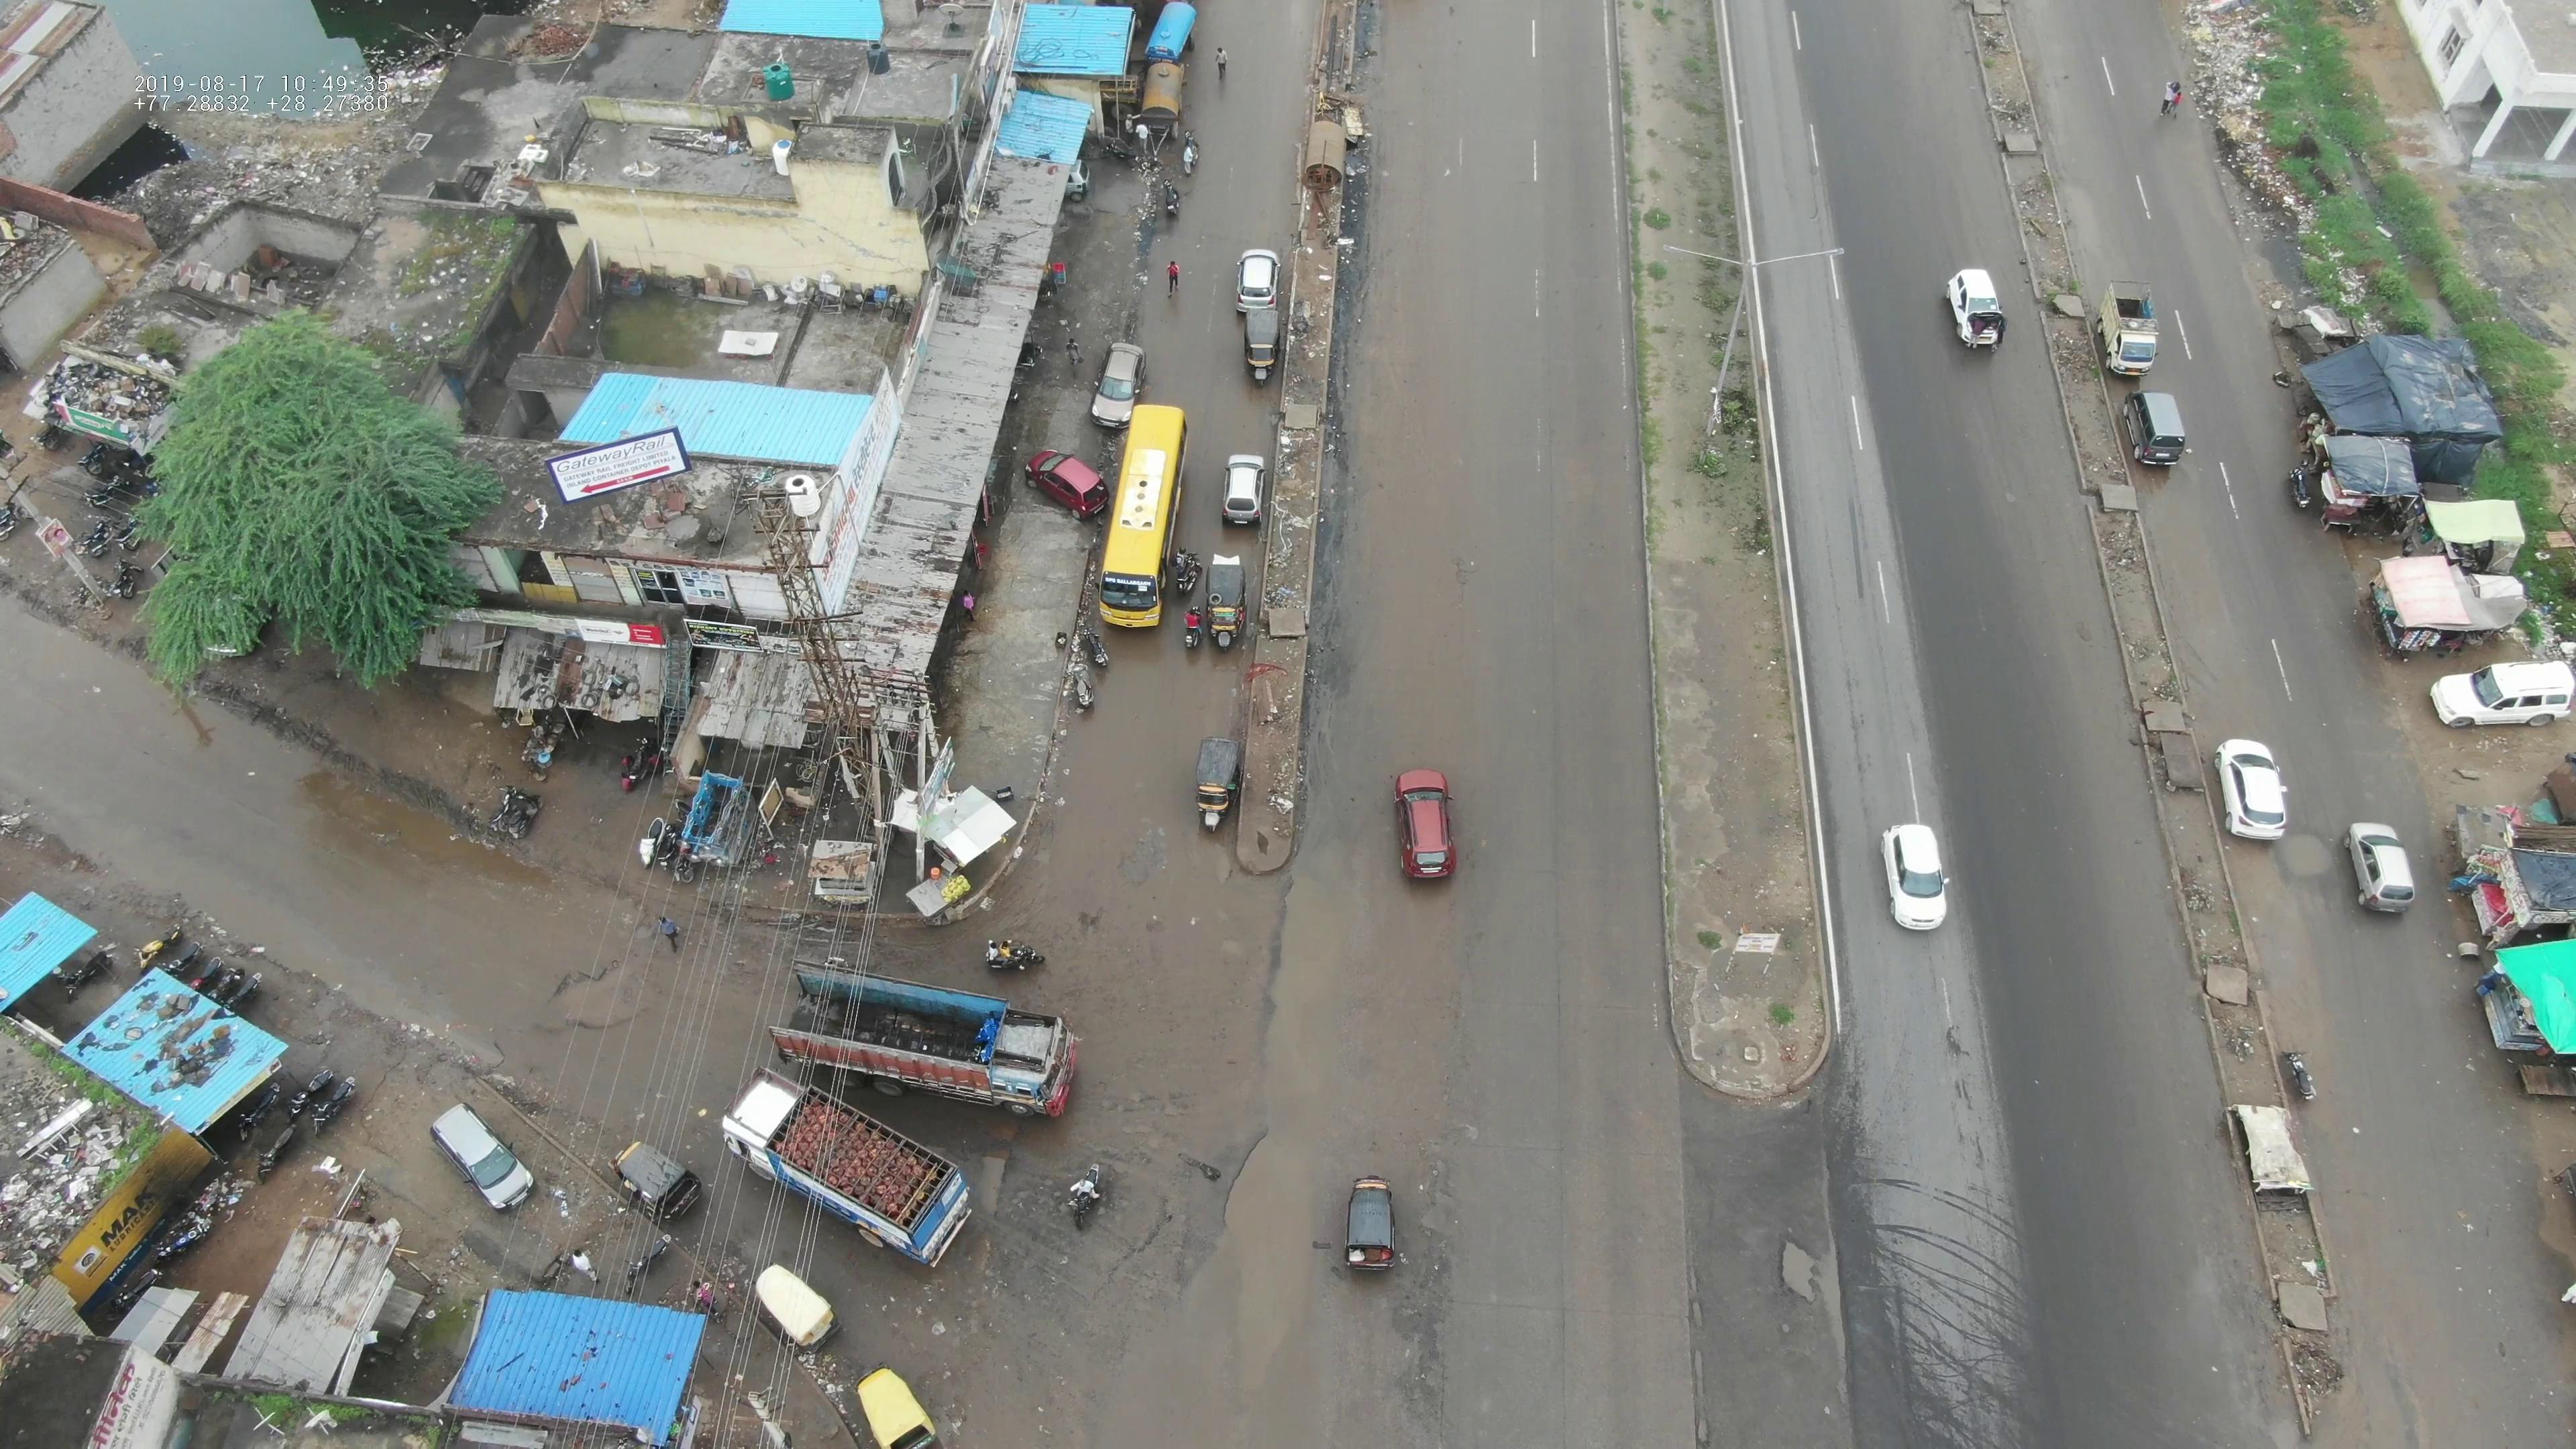Potholes: (1010, 1123, 1330, 1286)
Waterlogging: (285, 761, 550, 909)
